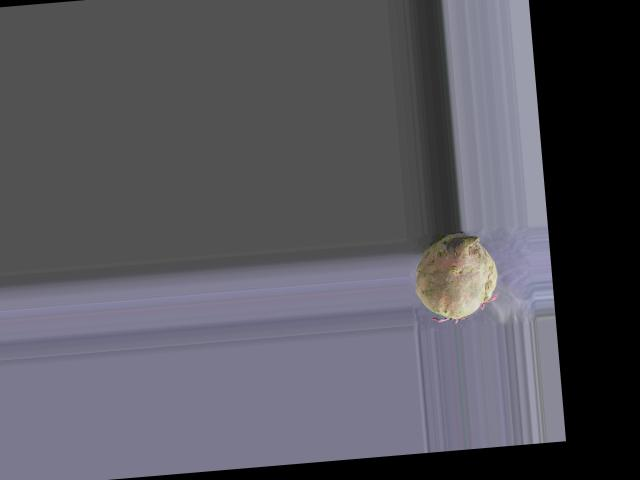beet: (412, 230, 501, 325)
